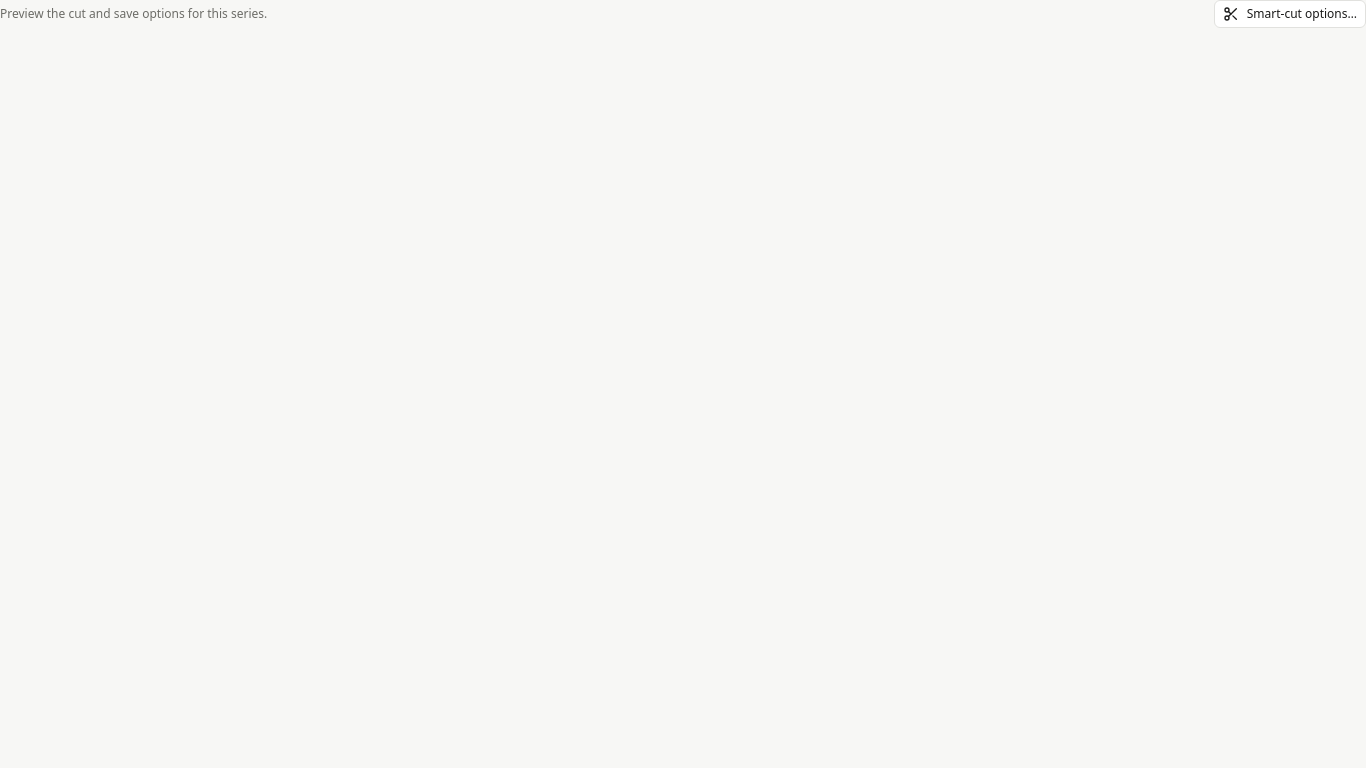
it: smart-cut options panel › cancels the panel's previews when closed
The width and height of the screenshot is (1366, 768).
Later steps or results of the test are not shown.
Click the button "Smart-cut options…" at (1290, 14), box left=1214, top=0, right=1365, bottom=28
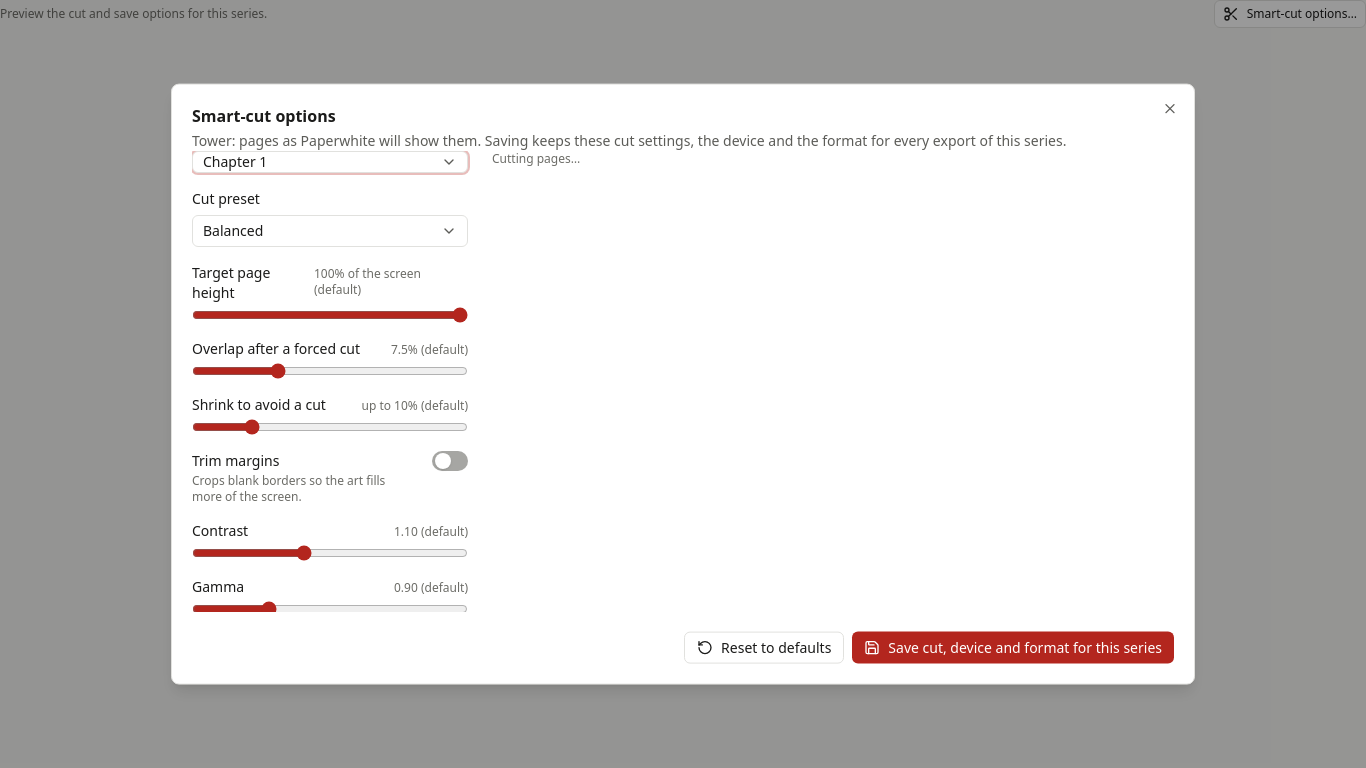
expect the text "Cutting pages…" is shown: met, box left=492, top=150, right=580, bottom=167
